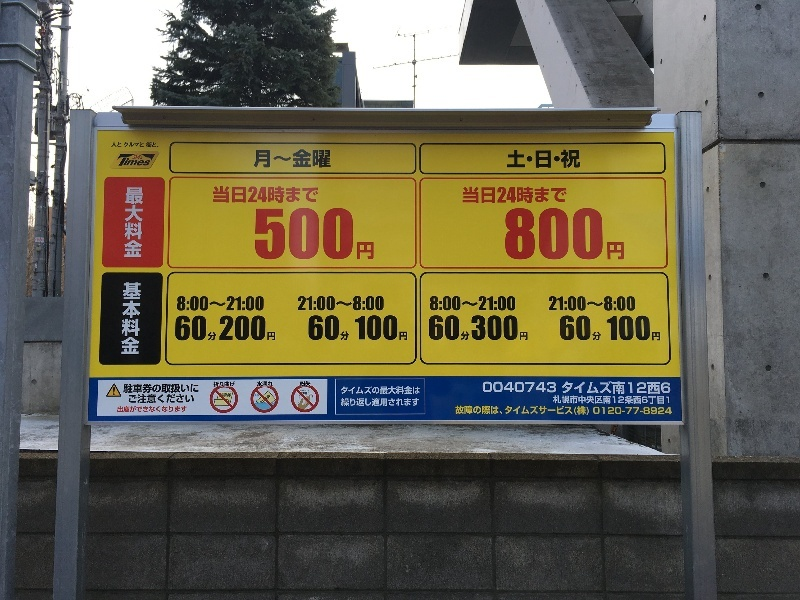text: (129, 187, 144, 258), (129, 283, 141, 354), (257, 207, 272, 260), (273, 207, 288, 260), (289, 207, 304, 260), (305, 207, 320, 260), (321, 207, 336, 260), (337, 207, 352, 260), (353, 207, 368, 260), (513, 208, 528, 260), (529, 208, 544, 260), (545, 208, 560, 260), (561, 208, 576, 260), (577, 208, 592, 260), (593, 208, 608, 260), (609, 208, 624, 260), (177, 316, 192, 342), (193, 316, 208, 342), (209, 316, 224, 342), (225, 316, 240, 342), (241, 316, 256, 342), (257, 316, 272, 342), (321, 315, 336, 341), (337, 315, 352, 341), (353, 315, 368, 341), (369, 315, 384, 341), (385, 315, 400, 341), (433, 316, 448, 342), (449, 316, 464, 342), (465, 316, 480, 342), (481, 316, 496, 342), (497, 316, 512, 342), (513, 316, 528, 342), (561, 316, 576, 341), (577, 316, 592, 341), (593, 316, 608, 341), (609, 316, 624, 341), (625, 316, 640, 341), (641, 316, 656, 341), (506, 208, 512, 260), (309, 315, 320, 341), (257, 150, 272, 169), (273, 150, 288, 169), (289, 150, 304, 169), (305, 150, 320, 169), (124, 283, 128, 354), (513, 150, 528, 168), (529, 150, 544, 168), (545, 150, 560, 168), (561, 150, 576, 168), (369, 207, 374, 260), (225, 186, 240, 203), (241, 186, 256, 203), (257, 186, 272, 203), (273, 186, 288, 203), (289, 186, 304, 203), (465, 187, 480, 204), (481, 187, 496, 204), (497, 187, 512, 204), (513, 187, 528, 204), (529, 187, 544, 204), (545, 187, 560, 204), (305, 296, 320, 311), (321, 296, 336, 311), (337, 296, 352, 311), (353, 296, 368, 311), (369, 296, 384, 311), (433, 296, 448, 311), (449, 296, 464, 311), (465, 296, 480, 311), (481, 296, 496, 311), (497, 296, 512, 311), (561, 296, 576, 311), (577, 296, 592, 311), (593, 296, 608, 311), (609, 296, 624, 311), (305, 186, 318, 203), (193, 297, 208, 311), (209, 297, 224, 311), (225, 297, 240, 311), (241, 297, 256, 311), (178, 297, 192, 311), (577, 382, 592, 395), (593, 382, 608, 395), (609, 382, 624, 395), (625, 382, 640, 395), (641, 382, 656, 395), (321, 150, 331, 169), (213, 186, 224, 203), (562, 382, 576, 395), (657, 382, 671, 395), (549, 296, 560, 311), (497, 382, 512, 393), (513, 382, 528, 393), (529, 382, 544, 393), (401, 315, 407, 341), (625, 296, 635, 311), (465, 406, 480, 416), (481, 406, 496, 416), (497, 406, 512, 416), (513, 406, 528, 416), (529, 406, 544, 416), (545, 406, 560, 416), (561, 406, 576, 416), (129, 384, 144, 394), (145, 384, 160, 394), (161, 384, 176, 394), (177, 384, 192, 394), (129, 394, 144, 404), (145, 394, 160, 404), (161, 394, 176, 404), (177, 394, 192, 404), (483, 382, 496, 393), (126, 187, 128, 258), (561, 396, 576, 405), (577, 396, 592, 405), (593, 396, 608, 405), (609, 396, 624, 405), (625, 396, 640, 405), (641, 396, 656, 405), (353, 398, 368, 407), (369, 398, 384, 407), (385, 398, 400, 407), (401, 398, 416, 407), (129, 157, 144, 166), (545, 382, 557, 393), (577, 406, 590, 416), (593, 407, 608, 415), (609, 407, 624, 415), (625, 407, 640, 415), (641, 407, 656, 415), (657, 407, 672, 415), (353, 387, 368, 395), (369, 387, 384, 395), (385, 387, 400, 395), (401, 387, 416, 395), (657, 396, 670, 405), (129, 406, 144, 413), (145, 406, 160, 413), (161, 406, 176, 413), (561, 187, 567, 204), (257, 297, 264, 311), (507, 150, 512, 168), (298, 296, 304, 311), (342, 398, 352, 407), (257, 381, 272, 387), (129, 142, 144, 148), (146, 142, 160, 148), (456, 406, 464, 416), (342, 387, 352, 395), (273, 316, 276, 342), (429, 316, 432, 342), (117, 406, 128, 413), (657, 316, 660, 341), (113, 142, 128, 147), (177, 406, 187, 413), (553, 396, 560, 405), (193, 384, 199, 394), (577, 150, 580, 168), (145, 157, 151, 166), (214, 382, 224, 387), (225, 382, 235, 387), (513, 296, 516, 311), (123, 157, 128, 166), (124, 384, 128, 394), (134, 155, 144, 159), (254, 150, 256, 169), (305, 381, 311, 387), (263, 399, 272, 403), (225, 393, 232, 398), (430, 296, 432, 311), (417, 398, 420, 407), (417, 387, 420, 395), (300, 381, 304, 387), (124, 142, 128, 148), (269, 394, 272, 400), (463, 187, 464, 204), (193, 394, 194, 404), (305, 392, 308, 395), (303, 392, 304, 395)
